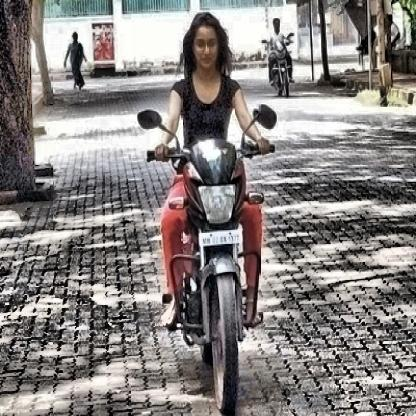not_wear: (184, 14, 221, 74)
